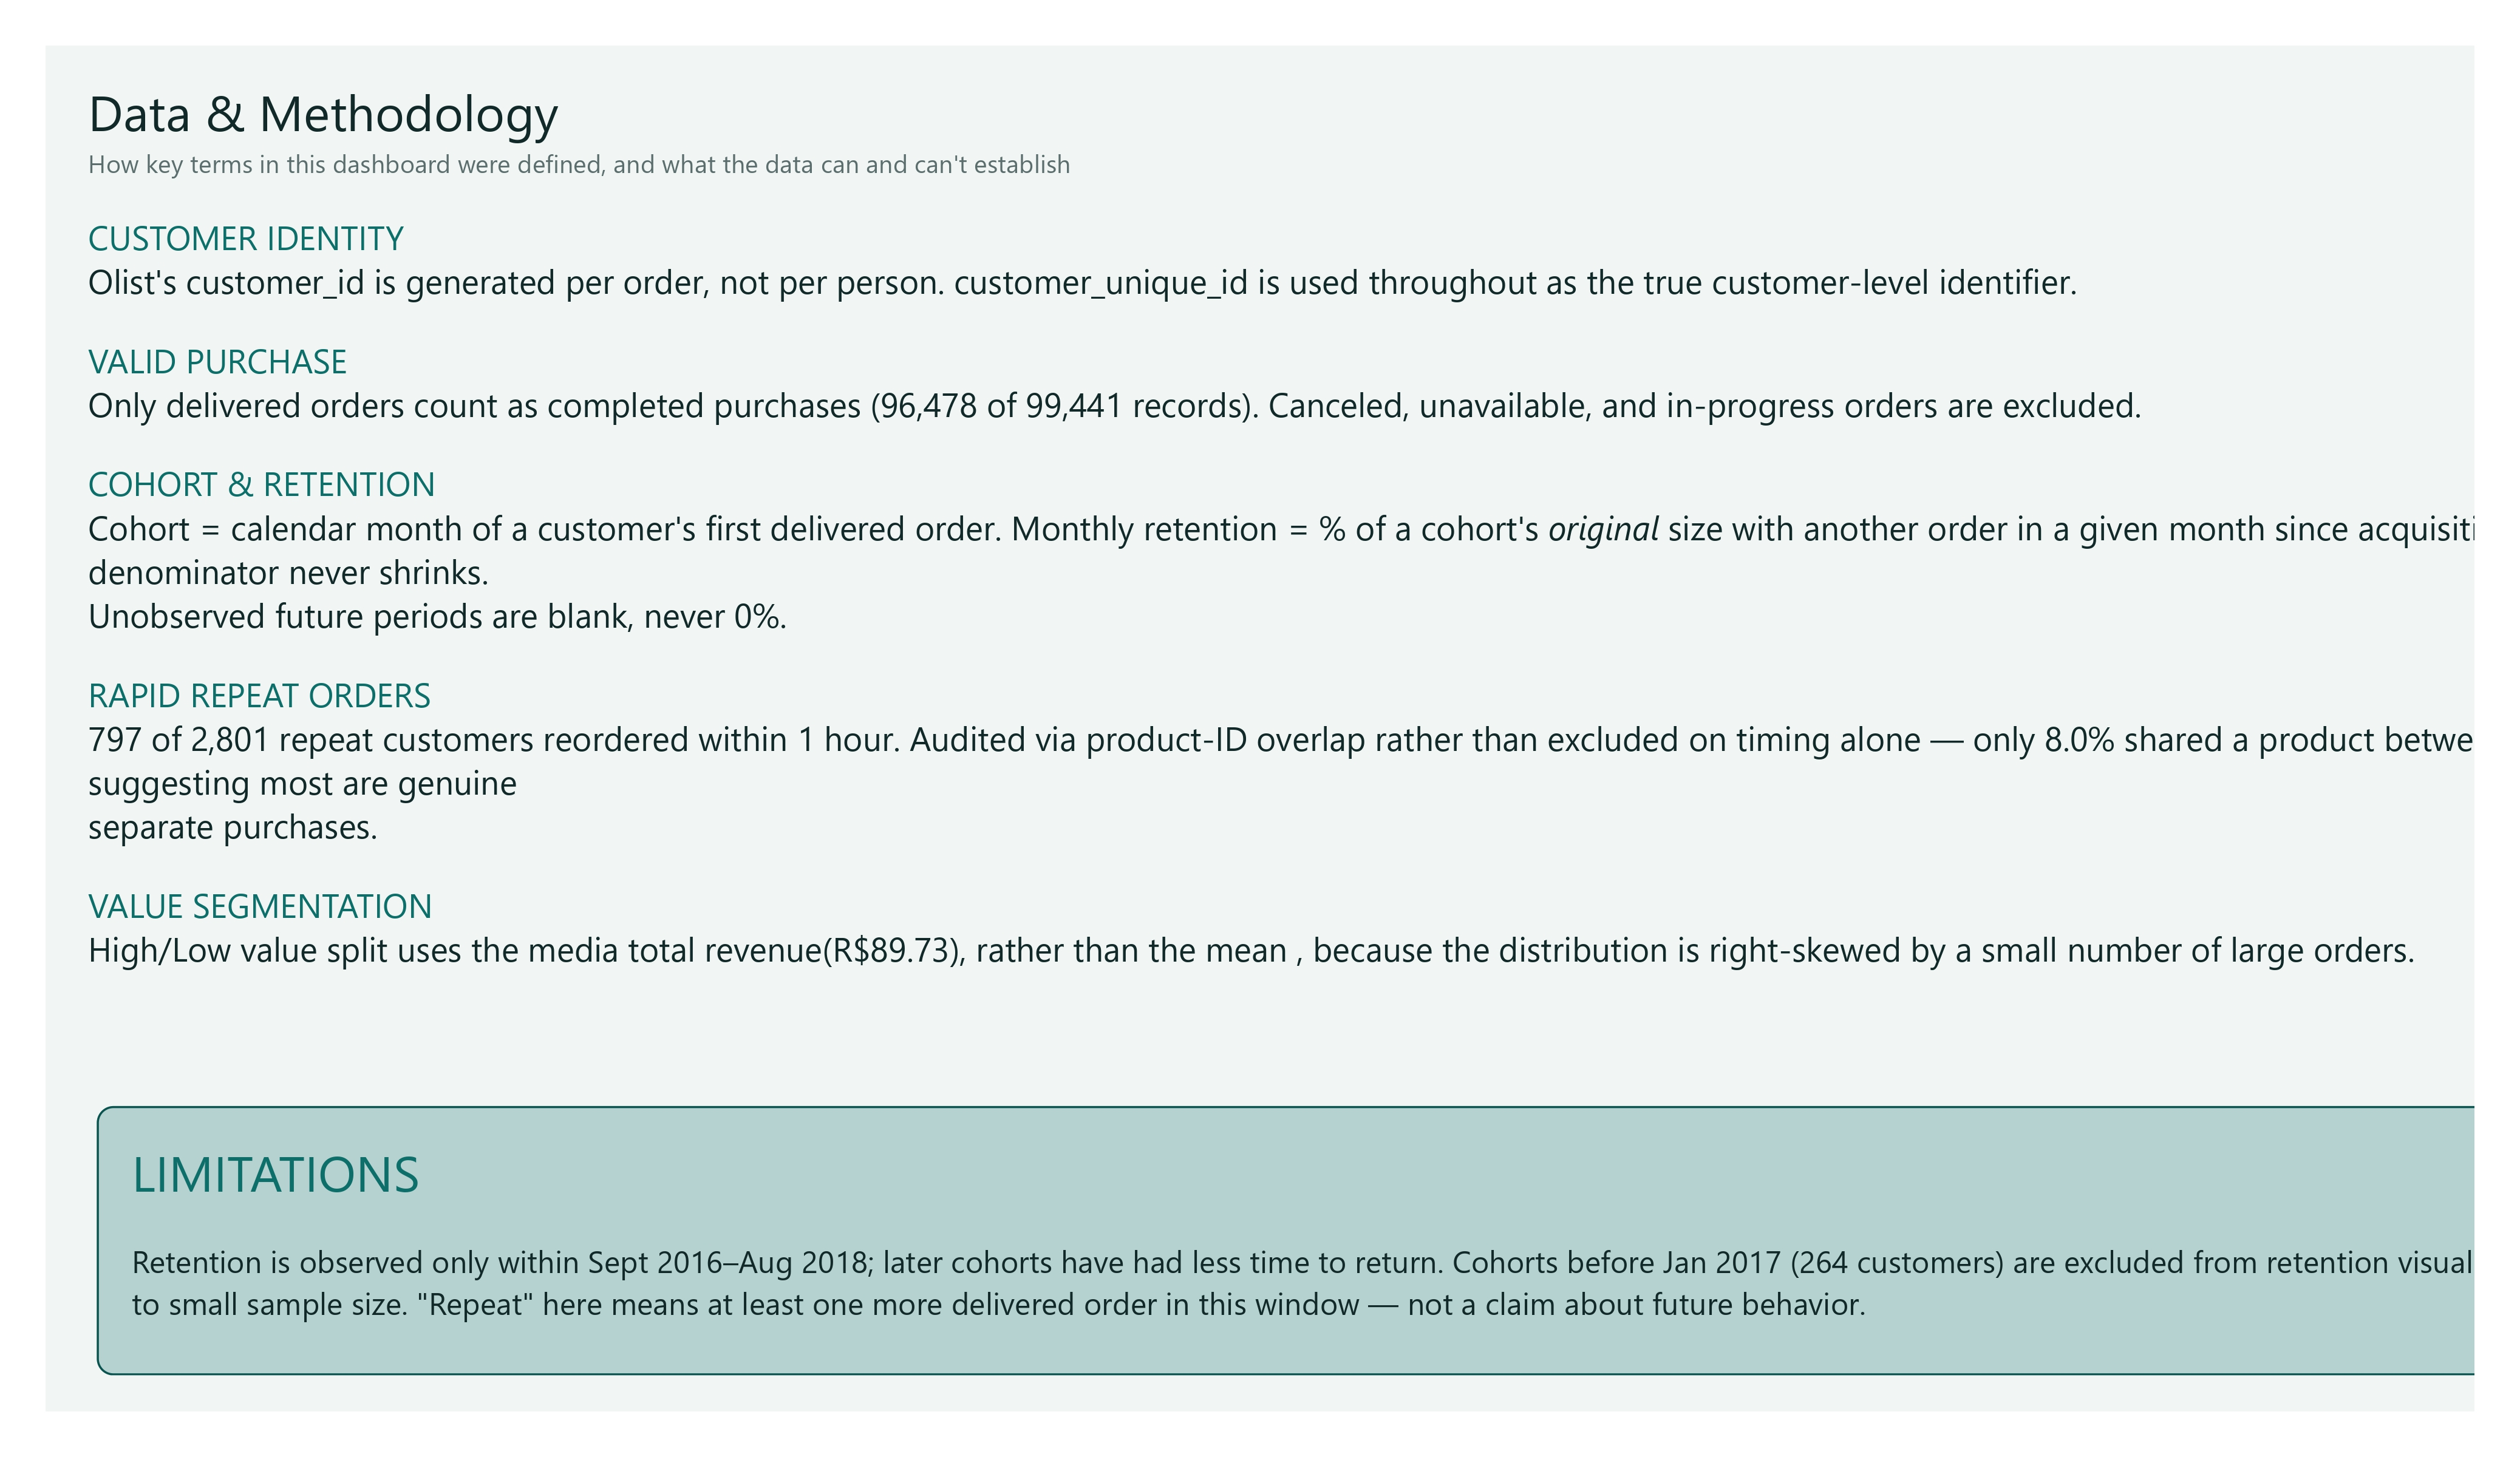

This screenshot's page, from the dashboard's own definition file:
{"tool":"powerbi","page":{"name":"Data and Methodology","canvas":[1280,720],"ordinal":4},"visuals":[{"type":"textbox","box":[15,10,1250,498.2],"z":0},{"type":"shape","box":[24.5,508.2,1202.7,129.1],"z":1000,"group":"g1"},{"type":"textbox","box":[36.3,518.2,1178.2,108.2],"z":2000,"group":"g1"},{"type":"group","id":"g1","title":"Group 1","box":[24.5,508.2,1202.7,129.1],"z":2001}]}

Visuals, with their boxes on the page's 1280x720 design canvas (x1, y1, x2, y2). These are canvas units, not pixel positions in the 2520x1457 screenshot, which may show the page scaled, cropped or inside an application window:
textbox: Rect(15, 10, 1265, 508)
shape: Rect(24, 508, 1227, 637)
textbox: Rect(36, 518, 1214, 626)
"Group 1" group: Rect(24, 508, 1227, 637)
